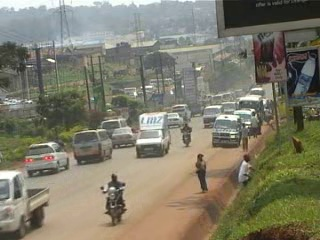Car: (23, 141, 71, 177), (109, 126, 139, 148), (167, 111, 184, 128)
Motorcycle: (99, 184, 126, 225), (181, 128, 191, 147)
